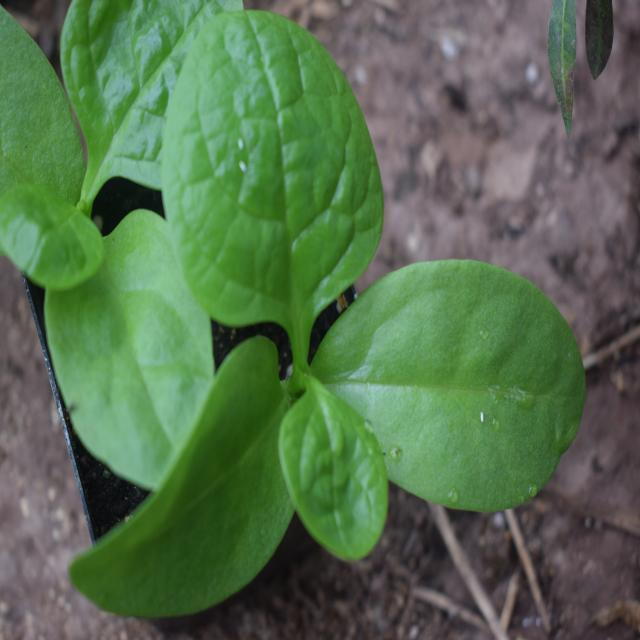Ceylon spinach: (83, 4, 592, 604)
